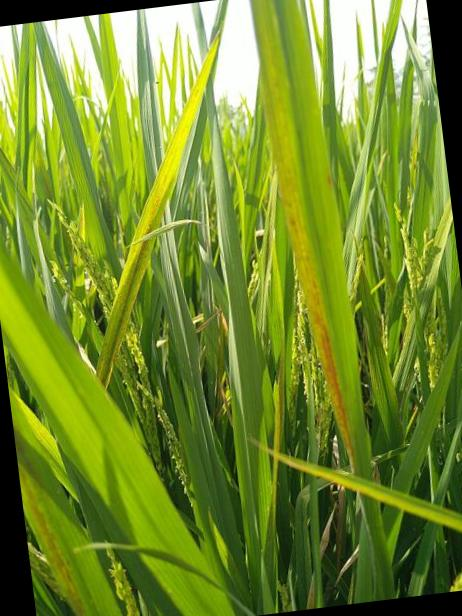Leaf Streak: (277, 149, 356, 474), (101, 170, 179, 389), (17, 462, 83, 616), (323, 128, 335, 198)
